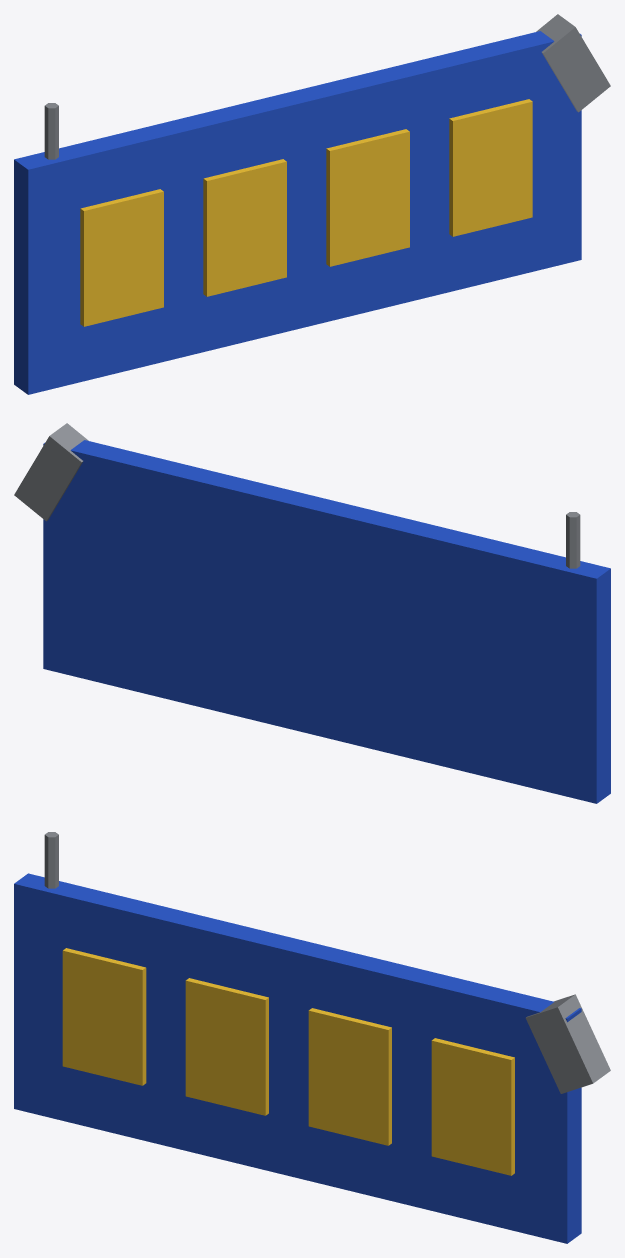
Rendered from bowl_torn_sign.glb.
The picture shows the model from 3 angles, top to bottom: view 1: azimuth 30°, elevation 25°; view 2: azimuth 150°, elevation 25°; view 3: azimuth 330°, elevation 25°; orthographic projection.
Visible parts, largest first — view 1: board_sign_board, letters_sign_letters (×4), torn_sign_torn, bolt_sign_torn; view 2: board_sign_board, torn_sign_torn, bolt_sign_torn; view 3: board_sign_board, letters_sign_letters (×4), torn_sign_torn, bolt_sign_torn.
Boxes of the visible parts, bbox=[...] form: board_sign_board: bbox=[14, 31, 581, 394]; letters_sign_letters (×4): bbox=[80, 99, 532, 326]; torn_sign_torn: bbox=[536, 14, 610, 112]; bolt_sign_torn: bbox=[44, 103, 58, 159]; board_sign_board: bbox=[43, 440, 610, 803]; torn_sign_torn: bbox=[14, 423, 88, 521]; bolt_sign_torn: bbox=[566, 512, 580, 568]; board_sign_board: bbox=[14, 873, 581, 1243]; letters_sign_letters (×4): bbox=[62, 948, 514, 1175]; torn_sign_torn: bbox=[525, 994, 610, 1093]; bolt_sign_torn: bbox=[44, 832, 58, 888].
Bounding box in the file's own units: 0.9451 × 0.43 × 0.055.
